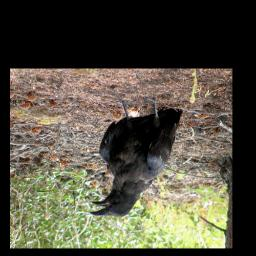Crow: (89, 95, 184, 218)
